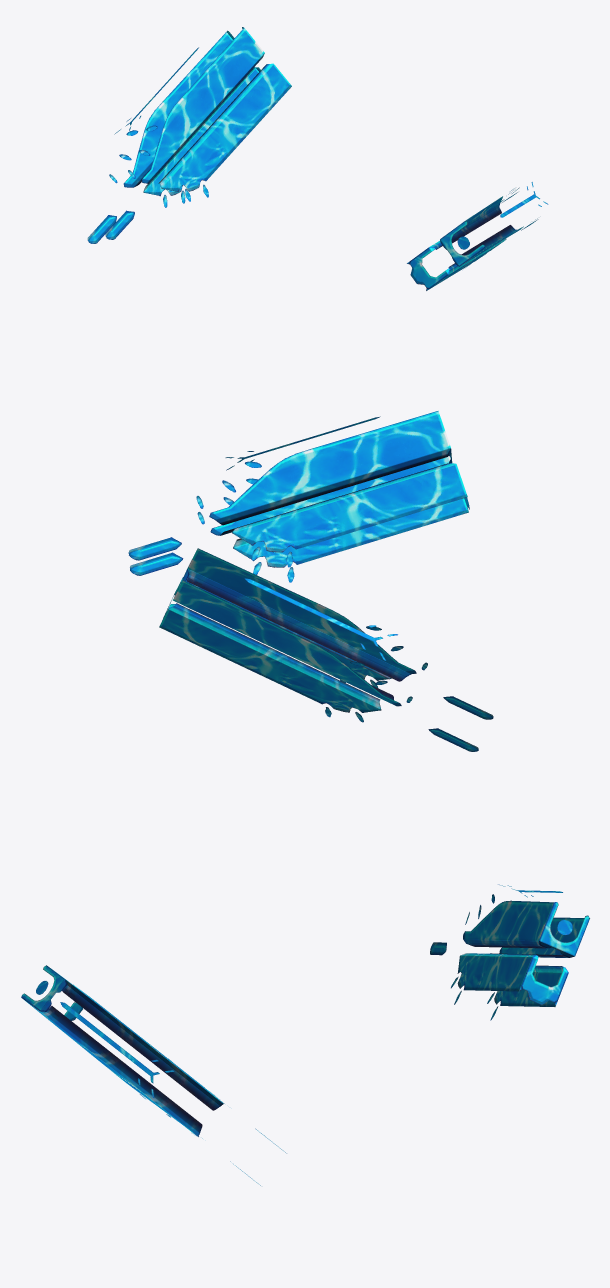
The model's file is Weapon_Pistol_K3_05_4.fbx.
3 renders of one model, top to bottom at view 1: azimuth 30°, elevation 25°; view 2: azimuth 150°, elevation 25°; view 3: azimuth 270°, elevation 25°, orthographic. The views are drawn at different scales.
Parts seen in each view (by area): view 1: RightPistol, LeftPistol; view 2: LeftPistol, RightPistol; view 3: RightPistol, LeftPistol.
Part boxes in pixels (box(x1,y1,x2,y2)): RightPistol: box(87, 27, 291, 243); LeftPistol: box(407, 182, 548, 290); LeftPistol: box(128, 411, 469, 582); RightPistol: box(159, 548, 493, 751); RightPistol: box(430, 884, 589, 1020); LeftPistol: box(21, 965, 286, 1185).
Bounding box in the file's own units: 0.5508 × 0.2511 × 0.4343.
Materials: 1 (1 with a texture image).
